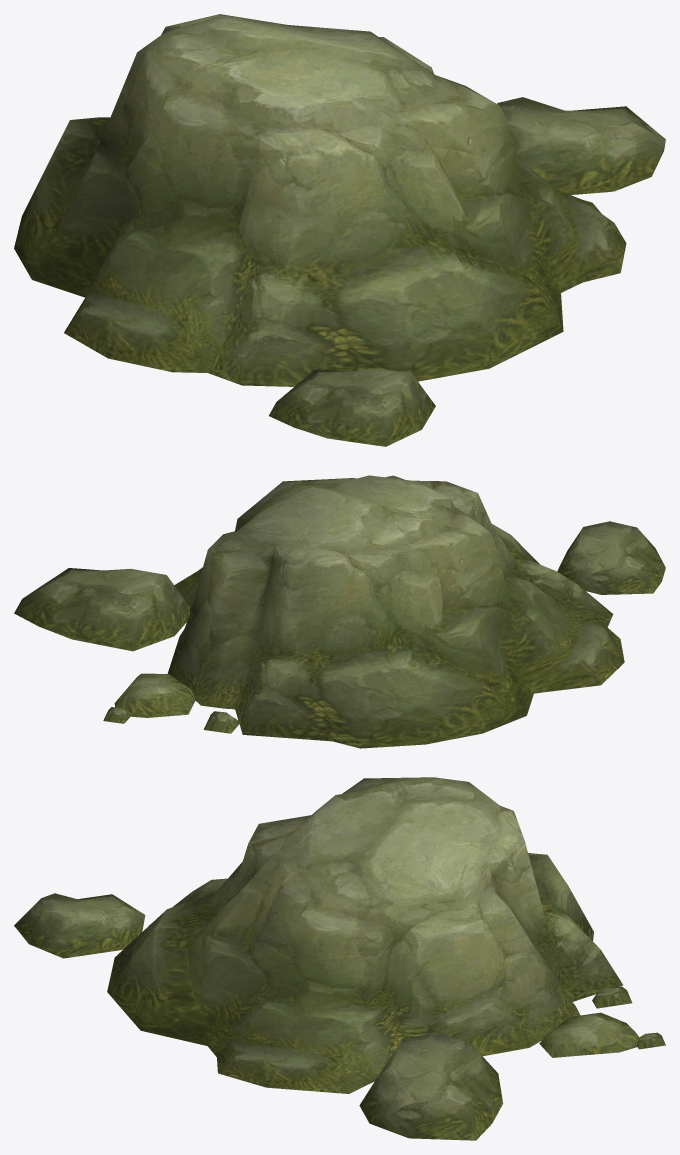
File: Stone_1.FBX
3 views of the same model, one above another, from view 1: azimuth 30°, elevation 25°; view 2: azimuth 150°, elevation 25°; view 3: azimuth 270°, elevation 25° (orthographic). The views are drawn at different scales.
Parts seen in each view (by area): view 1: C5_Stone_1; view 2: C5_Stone_1; view 3: C5_Stone_1.
Part boxes in pixels (x1,y1,x2,y2): C5_Stone_1: (14,14,665,446); C5_Stone_1: (14,475,665,748); C5_Stone_1: (14,777,665,1140).
Size of the model in its own units: 157 by 48.11 by 165.
